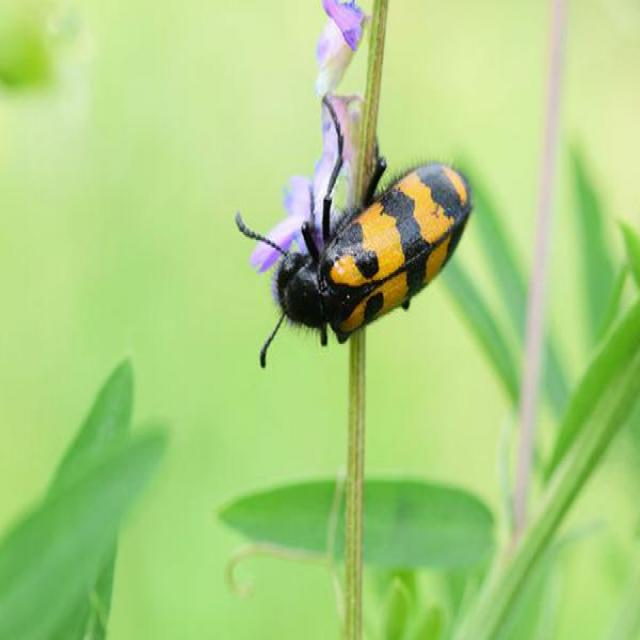BlisterBeetle-Adult-: (224, 77, 475, 377)
